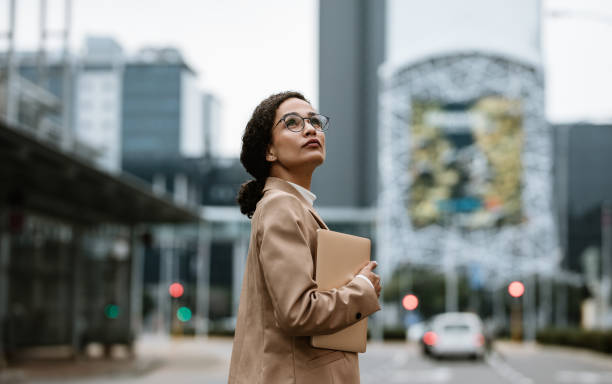face: (248, 87, 335, 183)
